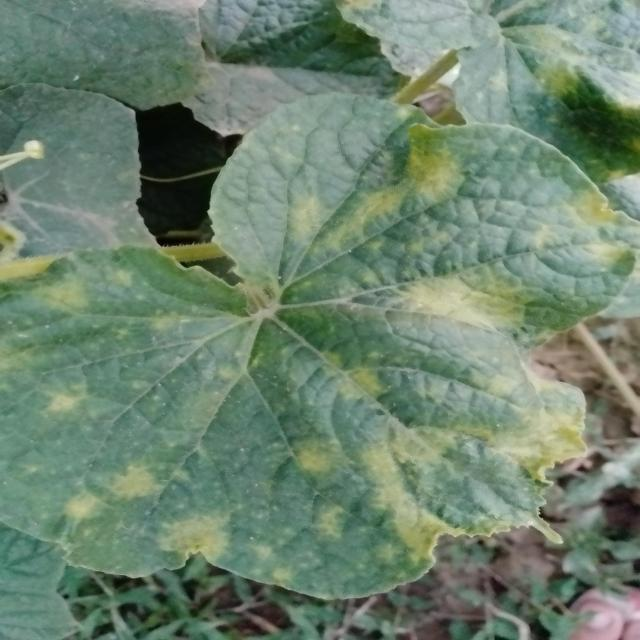cucumber_downy: (0, 123, 586, 588), (347, 0, 640, 180)
